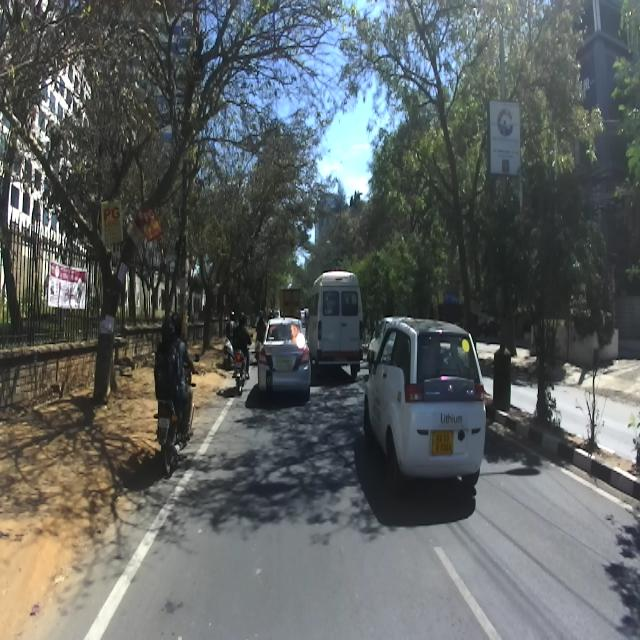car ahead at: (365, 313, 483, 497), (310, 271, 367, 385), (255, 310, 313, 402)
motorcycle ahead at: (153, 398, 200, 474)
tree ahead at: (13, 6, 152, 408)
